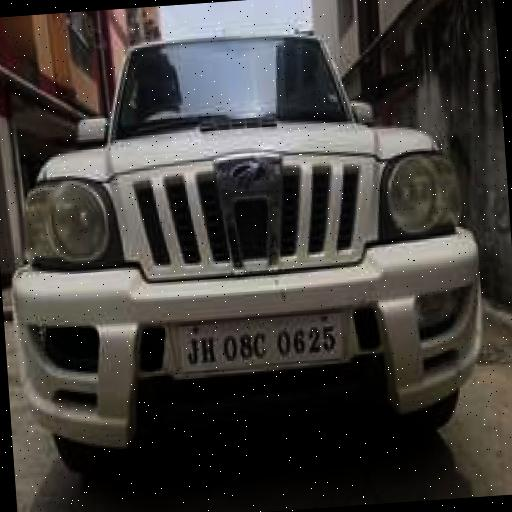license_plate`: (176, 310, 340, 370)
